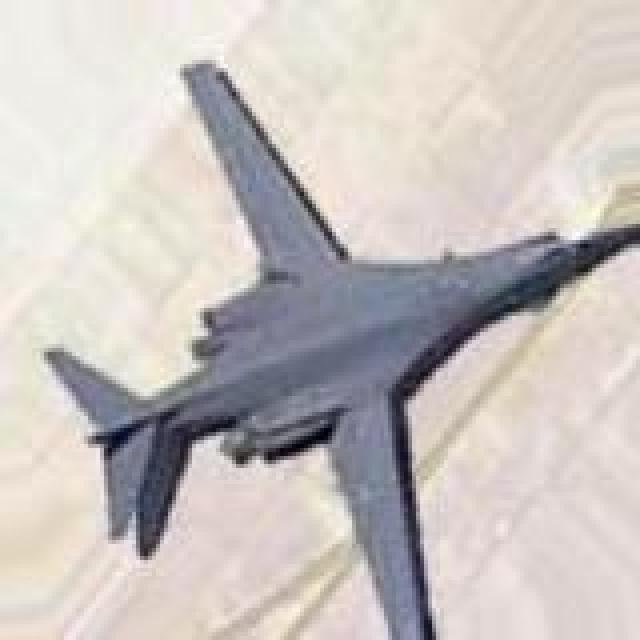B-1_TopDown: (36, 52, 636, 636)
